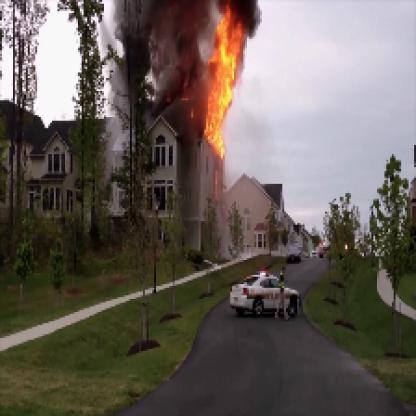Fire: (199, 2, 247, 158)
Smoke: (117, 2, 212, 119)
